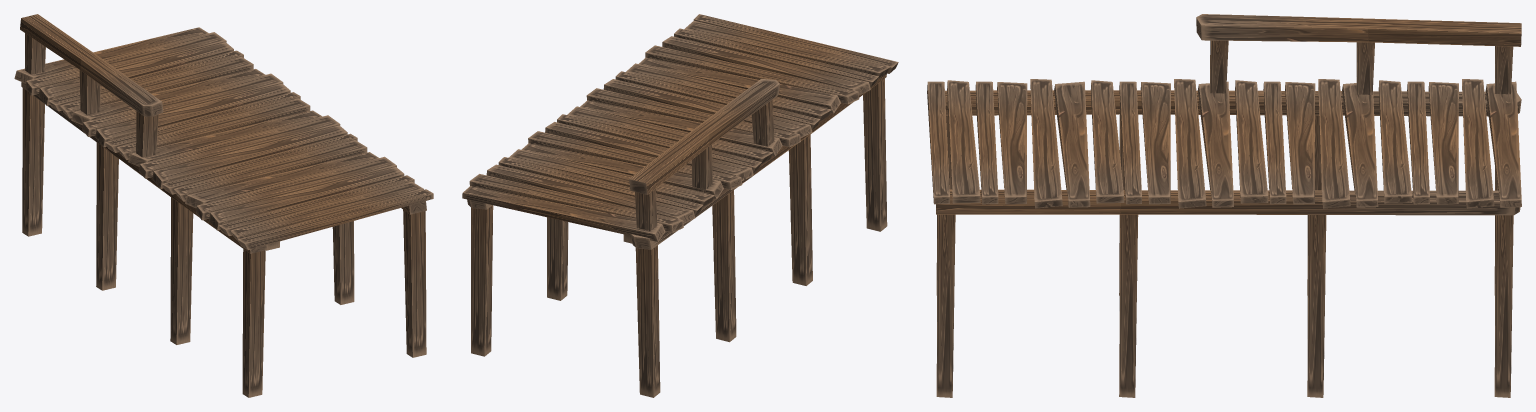
The model's file is pierB.fbx.
3 renders of one model, left to right at view 1: azimuth 30°, elevation 25°; view 2: azimuth 150°, elevation 25°; view 3: azimuth 270°, elevation 25°, orthographic. The views are drawn at different scales.
Visible parts, largest first — view 1: pierB; view 2: pierB; view 3: pierB.
Boxes of the visible parts, x1,y1,x2,y2 form: pierB: [14, 14, 433, 397]; pierB: [462, 14, 898, 397]; pierB: [927, 14, 1521, 397].
Bounding box in the file's own units: 308 × 324 × 637.
1 material, 1 textured.
